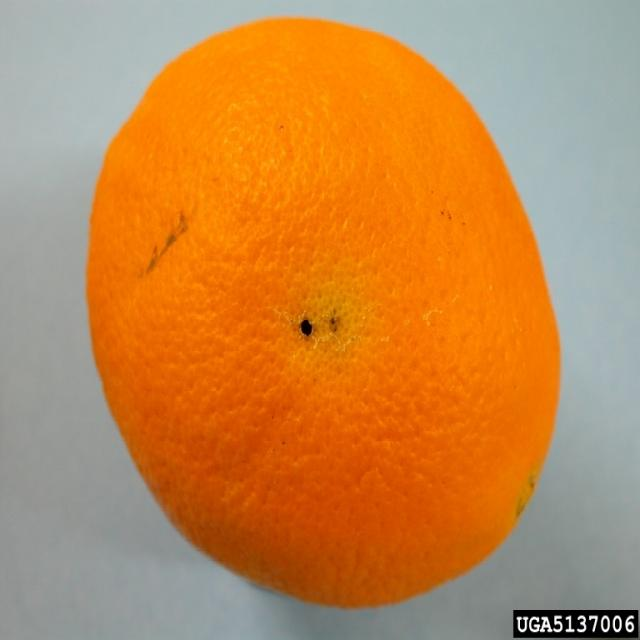Orange: (89, 20, 568, 613)
